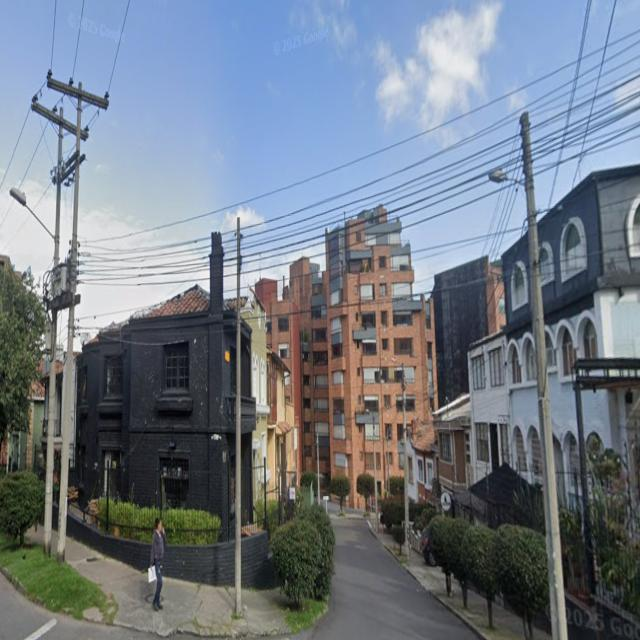fachada: (76, 233, 256, 538), (256, 207, 438, 506), (539, 166, 639, 500), (432, 257, 506, 406), (255, 279, 302, 426), (469, 332, 511, 484), (241, 289, 270, 495), (267, 350, 298, 499), (0, 381, 44, 471), (433, 394, 471, 492), (37, 350, 68, 463), (408, 426, 435, 502)
poste: (521, 112, 567, 639), (57, 82, 81, 562), (575, 382, 596, 594), (44, 310, 57, 556), (235, 217, 242, 616), (402, 364, 409, 555), (373, 425, 378, 530), (316, 431, 320, 504)
